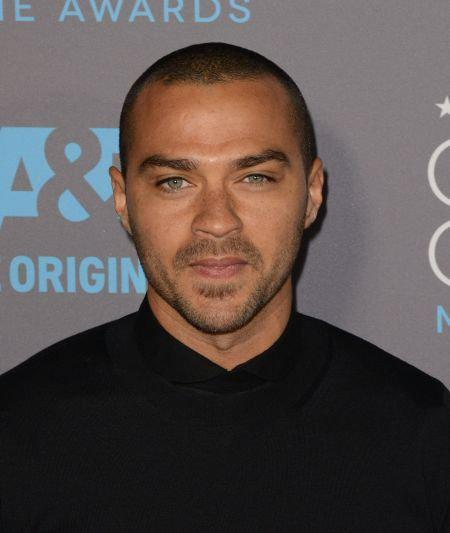Sober: (129, 101, 300, 313)
